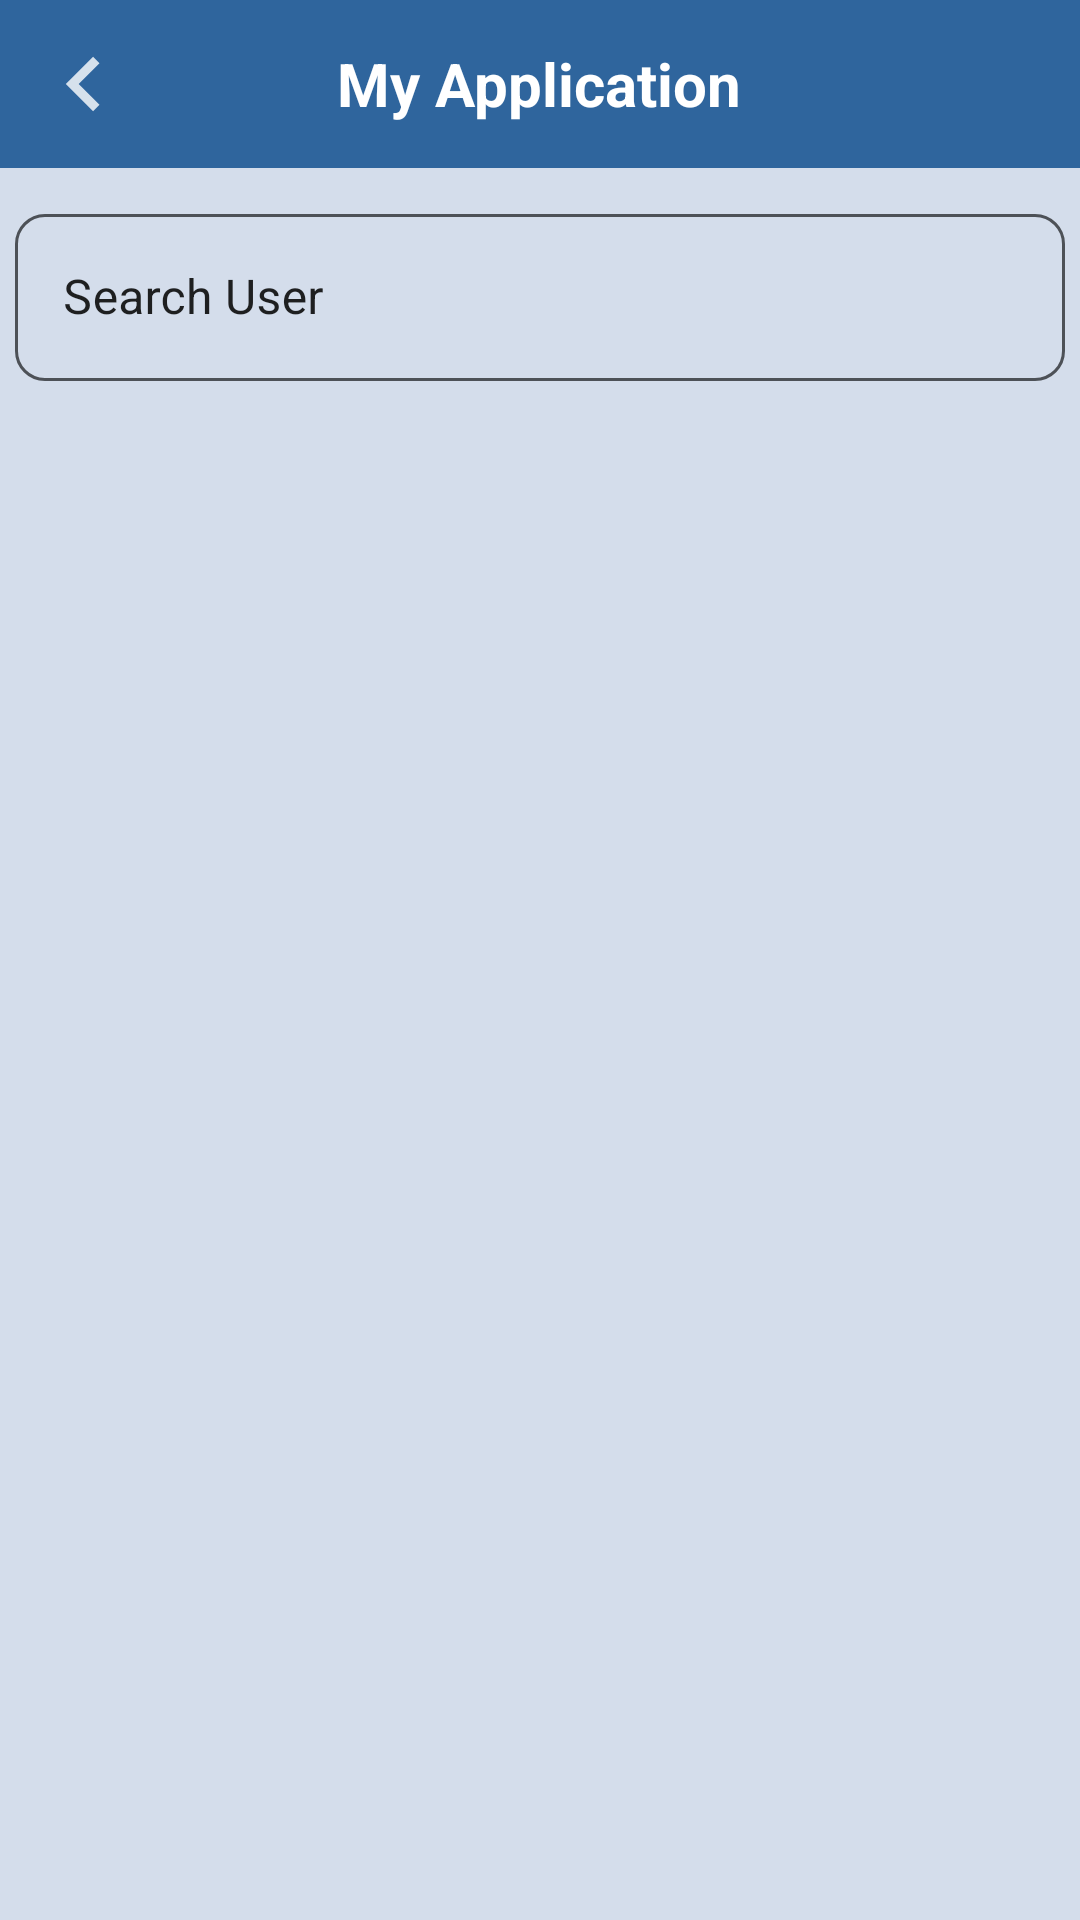

Named icons in this screenshot (1080 x 1920) and their centers, (x,y):
back arrow: (83,84)
